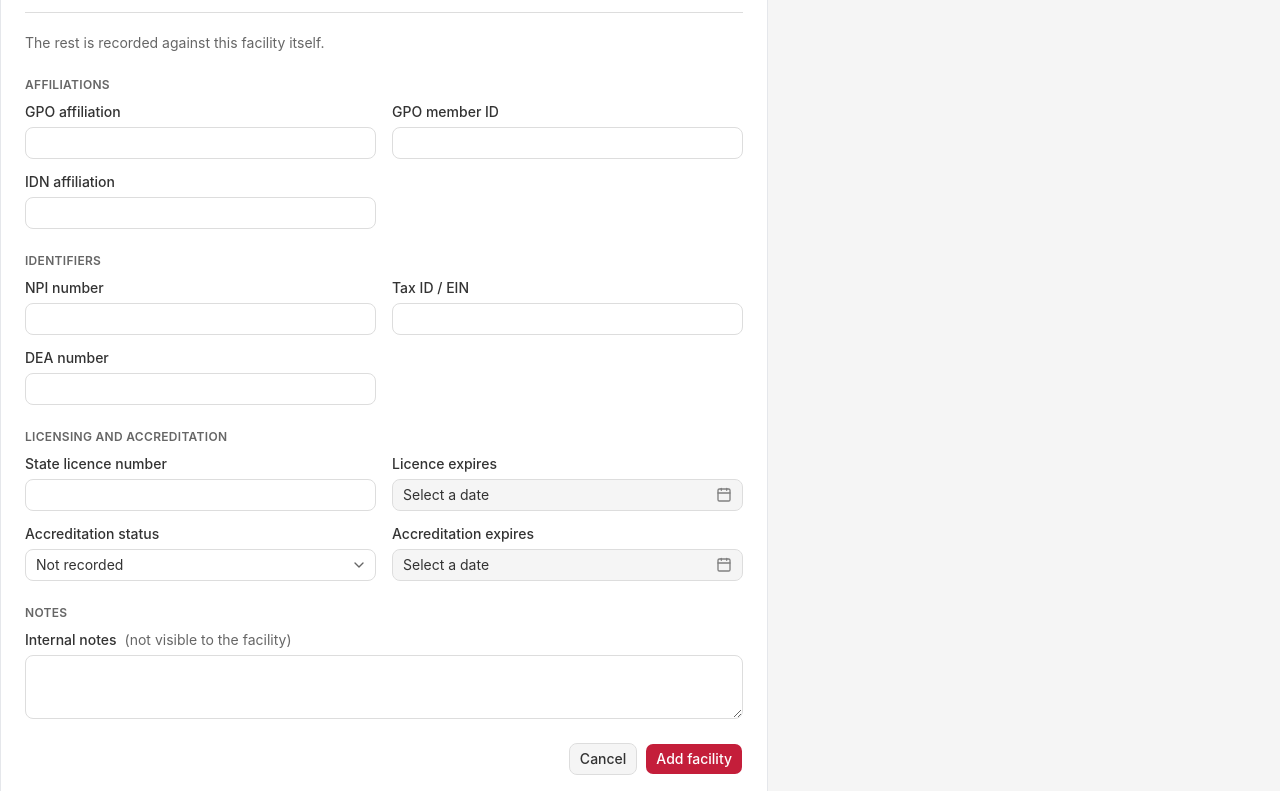
creating › will not submit a blank name
(page scrolled)
Click the button "Add facility" at (694, 759), box left=645, top=743, right=743, bottom=775
(page scrolled)
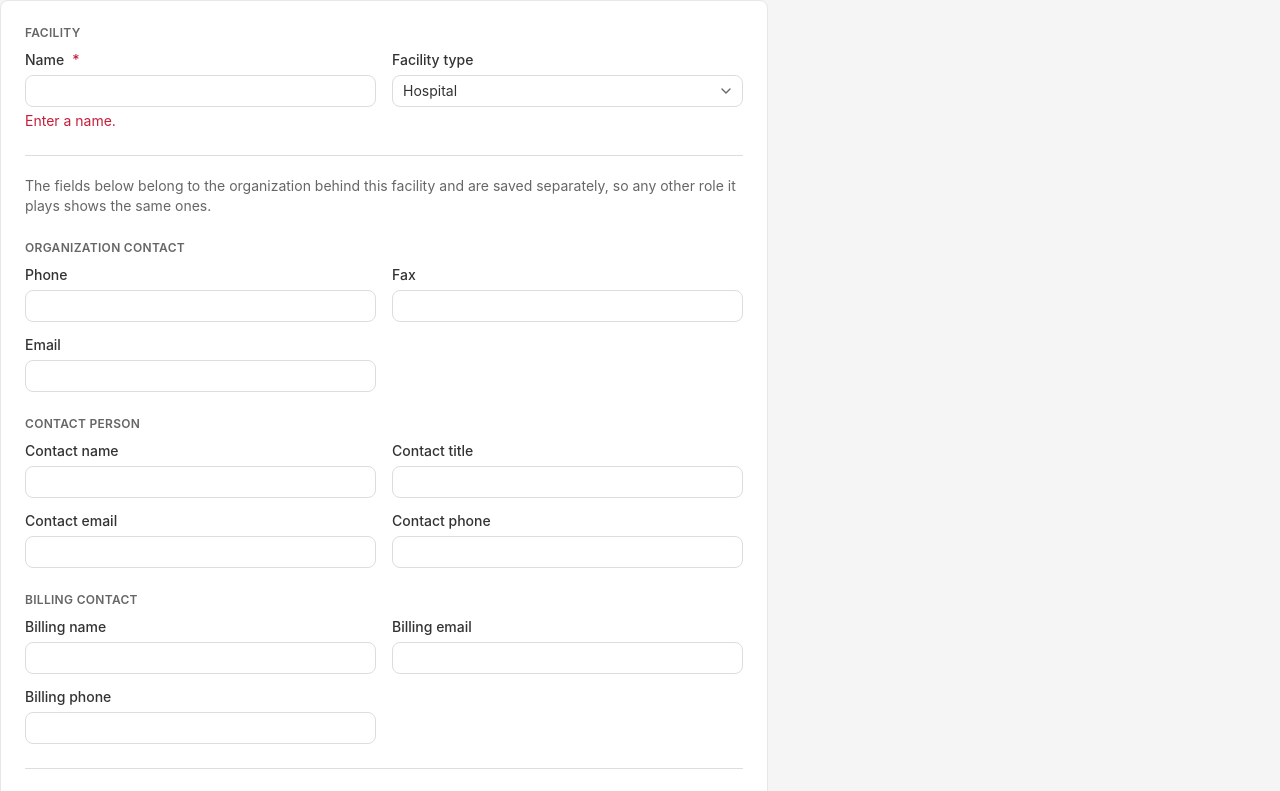
Result: the text "Enter a name." is shown at left=25, top=112, right=116, bottom=129
